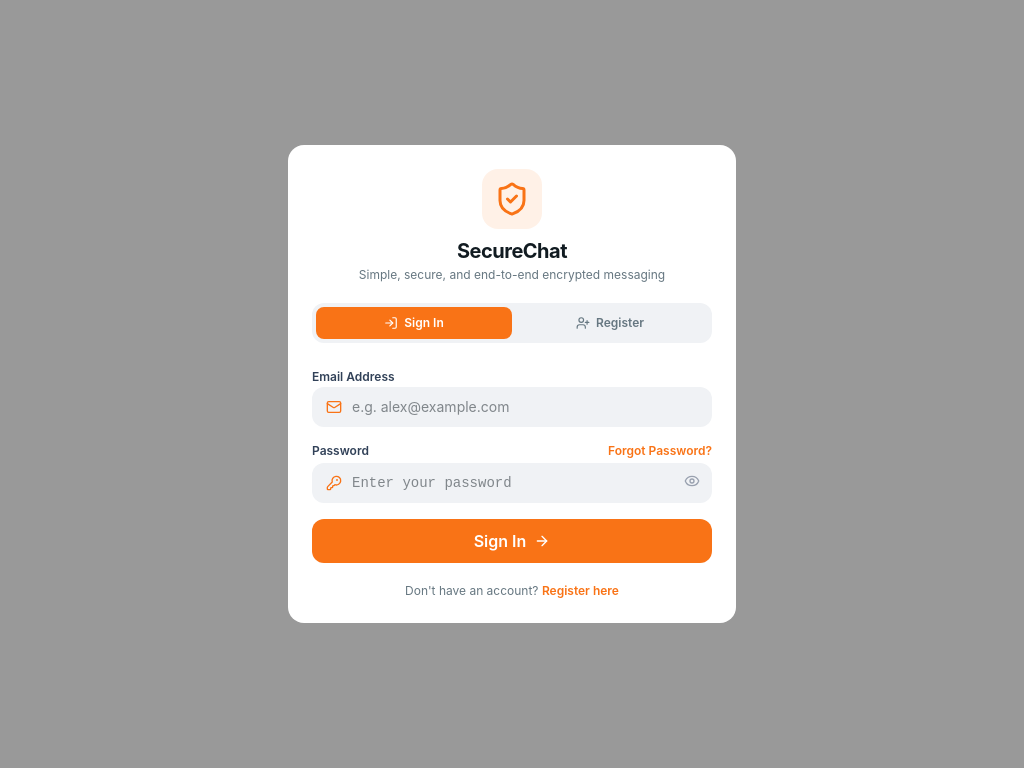
it: AuthModal Component with Email + Password Flow › switches to register tab and registers user
// Click Register tab
Click the button "Register" at coordinates (610, 323), box [512,307,708,339]
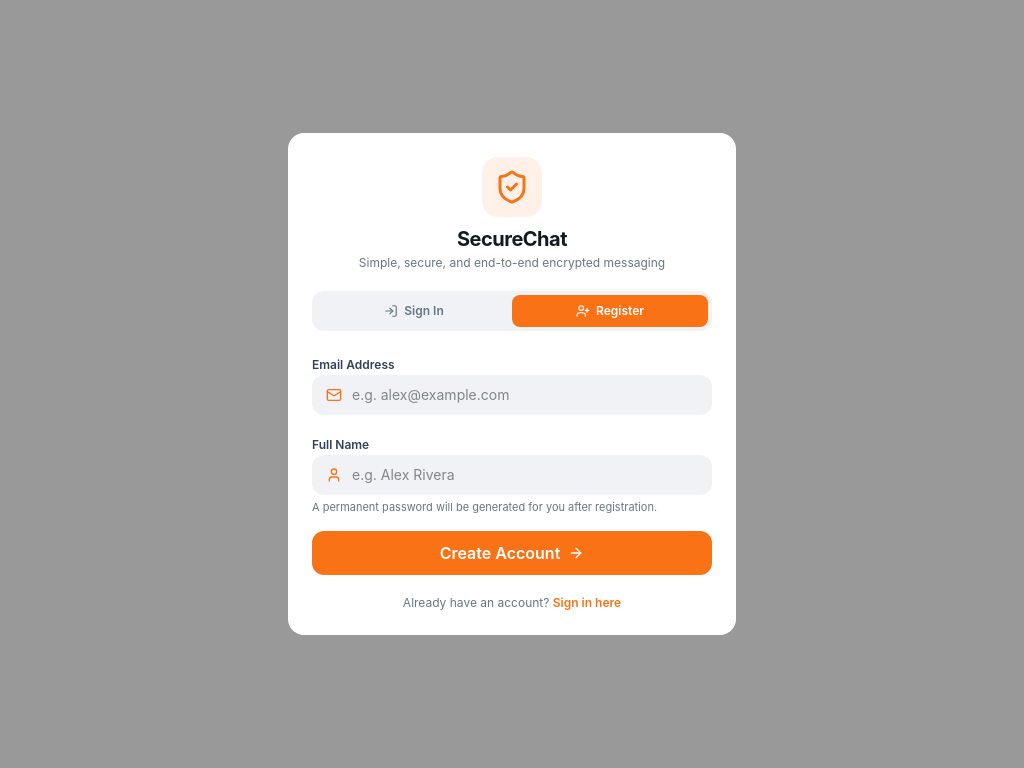
Type "alex@example.com" into the field with placeholder "e.g. alex@example.com" at coordinates (512, 395), box [312,375,712,415]
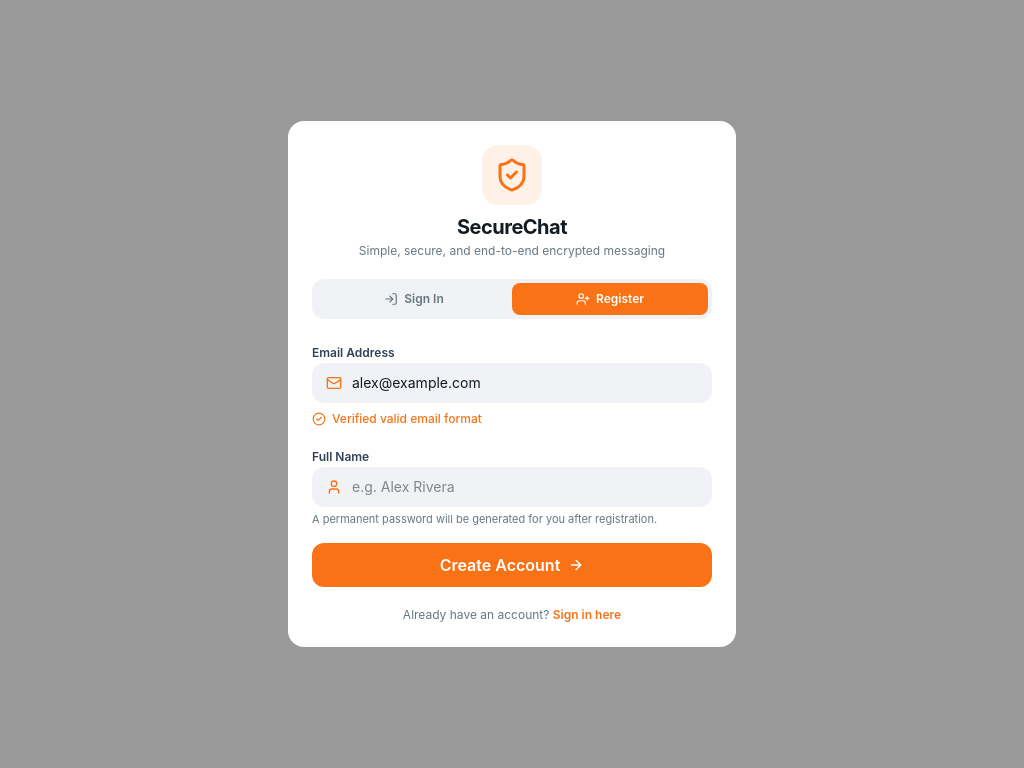
Type "Alex Rivera" into the field with placeholder "e.g. Alex Rivera" at coordinates (512, 487), box [312,467,712,507]
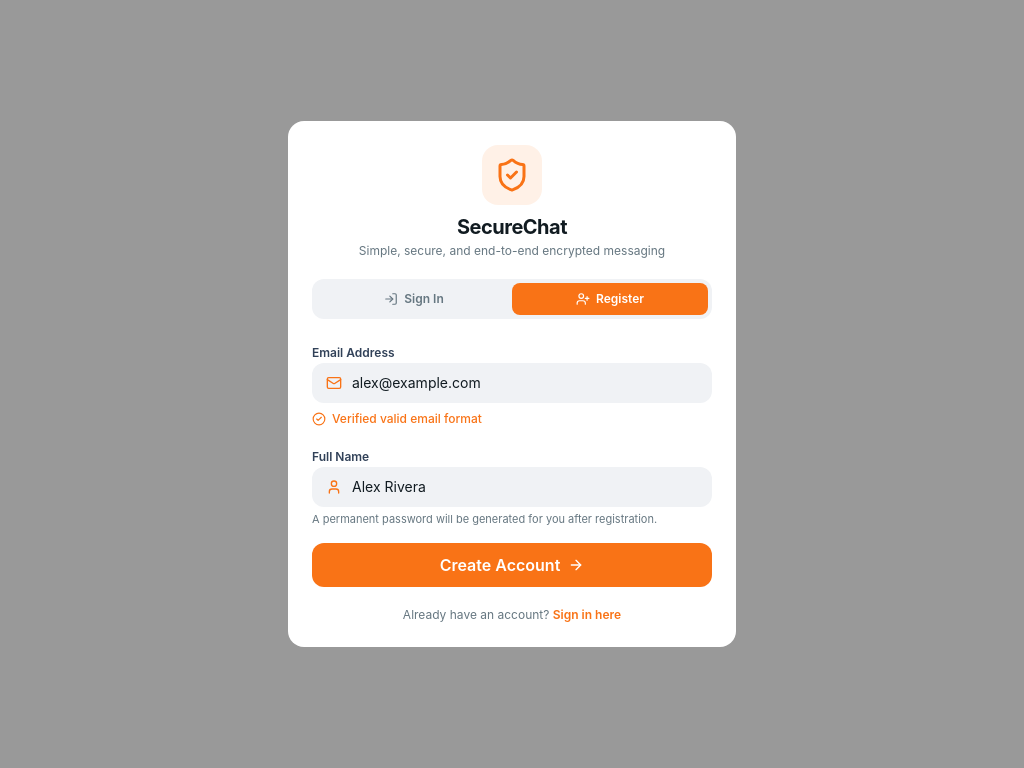
Submit the form, box [312,339,712,623]
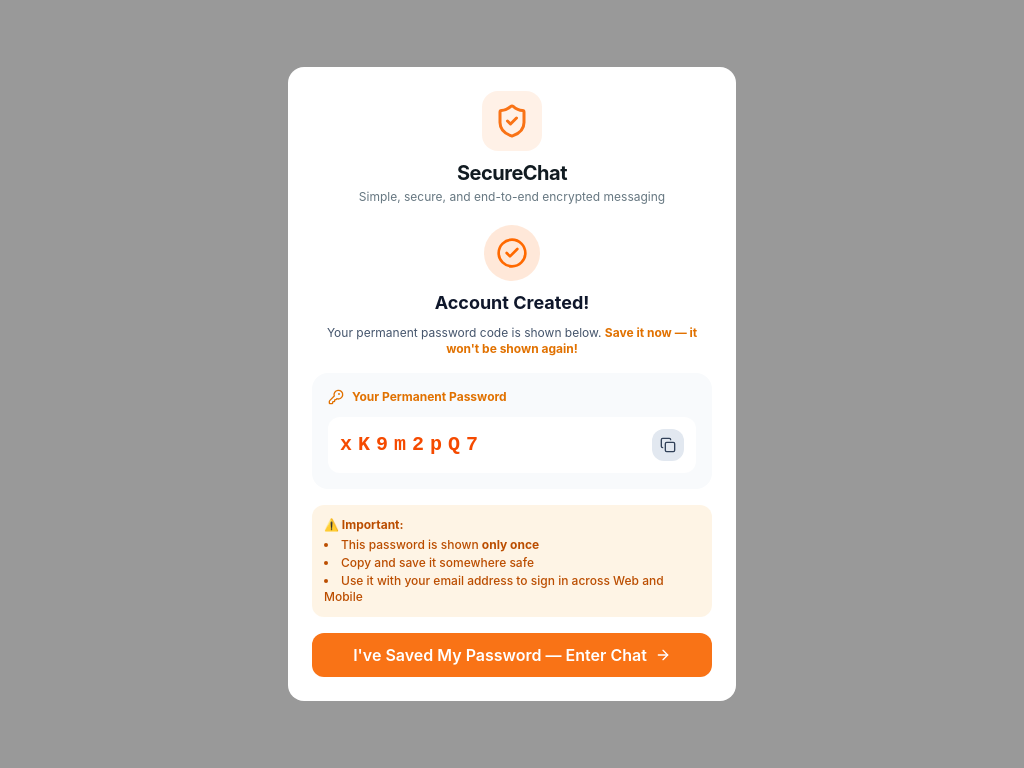
Expected: the heading "Account Created!" is shown, [435,292,589,313]
Expected: the text "xK9m2pQ7" is shown, [340,431,484,459]
